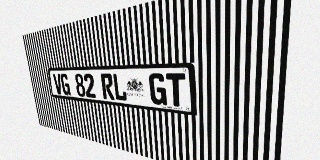2: (83, 74, 96, 98)
8: (74, 74, 86, 97)
G: (148, 73, 167, 105), (60, 74, 71, 95)
L: (112, 73, 127, 101)
R: (100, 73, 115, 100)
T: (166, 73, 186, 108)
V: (53, 74, 63, 95)
